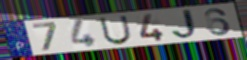4: (70, 17, 98, 50), (138, 12, 166, 42)
6: (204, 7, 232, 36)
7: (30, 21, 60, 53)
J: (171, 8, 203, 41)
U: (97, 15, 133, 46)
